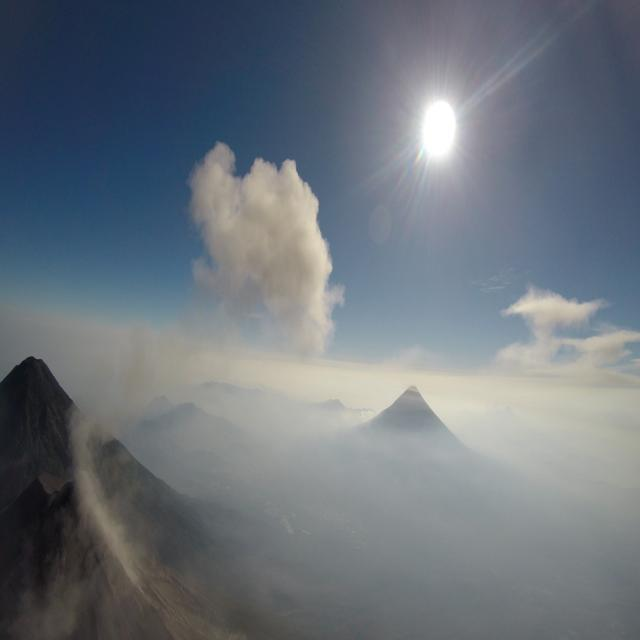Plume: (186, 136, 350, 366)
Summit: (54, 468, 116, 526)
